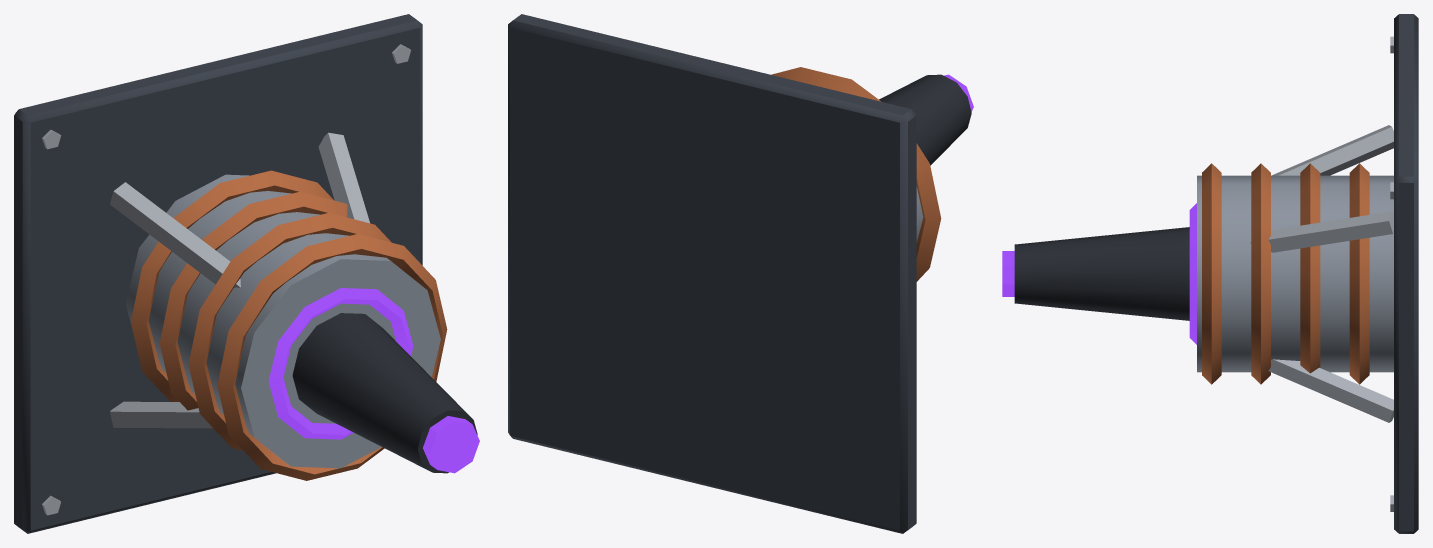
The model's file is nozzle_plasma_injector_nozzle.glb.
3 renders of one model, left to right at view 1: azimuth 30°, elevation 25°; view 2: azimuth 150°, elevation 25°; view 3: azimuth 270°, elevation 25°, orthographic. The views are drawn at different scales.
Visible parts, largest first — view 1: nozzle_plasma_injector_nozzle; view 2: nozzle_plasma_injector_nozzle; view 3: nozzle_plasma_injector_nozzle.
Boxes of the visible parts, x1,y1,x2,y2 form: nozzle_plasma_injector_nozzle: (14,14,479,533); nozzle_plasma_injector_nozzle: (508,14,973,533); nozzle_plasma_injector_nozzle: (1002,14,1418,533).
Bounding box in the file's own units: 0.8 × 0.8 × 0.845.
